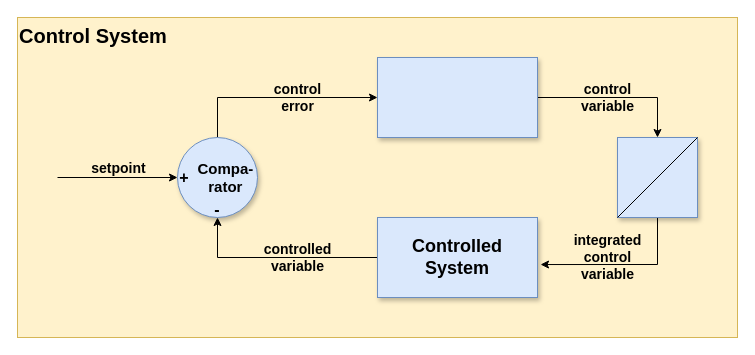
Some shapes in this 755 by 355 pixel diagram are drawn without their labels. The shapes that lost their labels are listed below. From the top down, each one's centre as x and y in pixels, then its label:
At point (458, 98): "Controller".
At point (657, 177): "Integra- tor".
